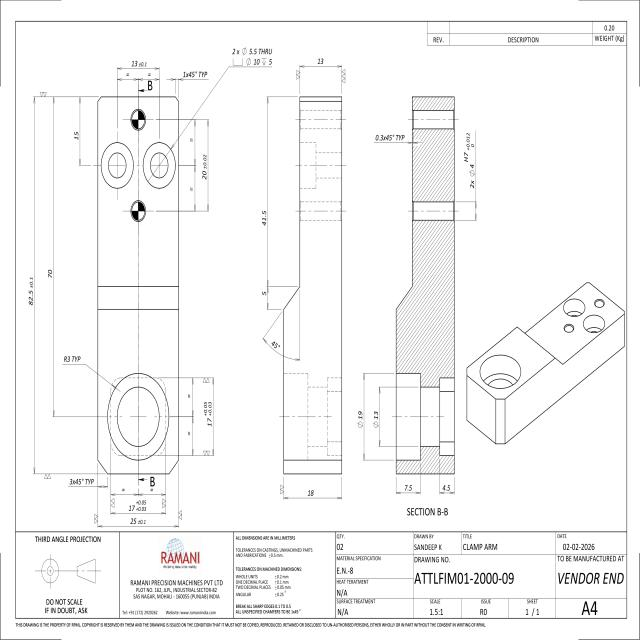dimension: (27, 96, 37, 476), (46, 96, 56, 420), (261, 95, 270, 289), (463, 130, 478, 223), (108, 499, 168, 517), (261, 337, 301, 363), (202, 378, 215, 458), (96, 518, 181, 530), (200, 118, 210, 214), (231, 46, 274, 68), (357, 372, 367, 462), (282, 488, 343, 502), (297, 56, 344, 70), (373, 132, 418, 146), (373, 386, 383, 448), (116, 58, 160, 72), (67, 476, 110, 490), (74, 95, 82, 168), (188, 118, 198, 167), (188, 165, 198, 212), (394, 483, 422, 498), (187, 376, 196, 418), (180, 68, 209, 81), (187, 416, 196, 457), (109, 486, 139, 496), (138, 486, 167, 496), (62, 354, 85, 366), (438, 483, 456, 498), (260, 285, 270, 311), (116, 71, 138, 81), (138, 72, 160, 82)
